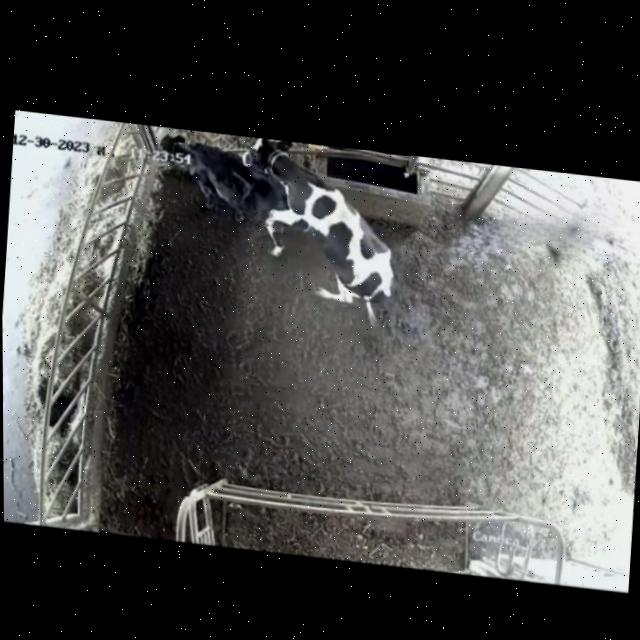ride: (226, 134, 415, 340)
stand: (146, 128, 285, 241)
